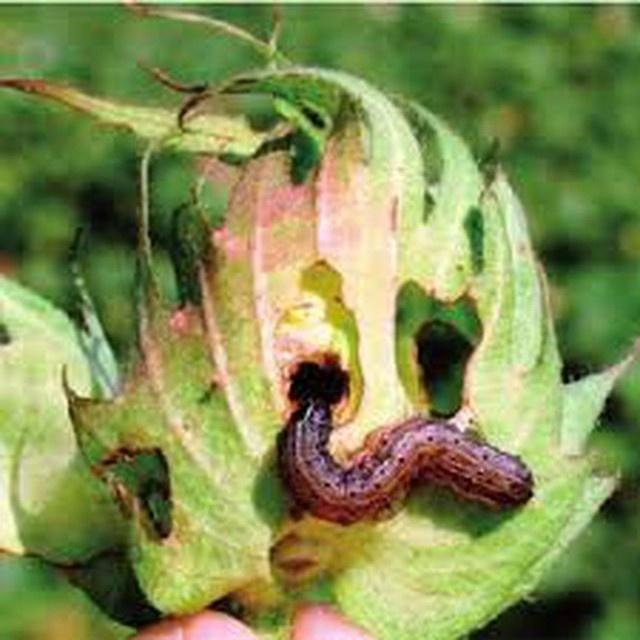gusano_cogollero: (285, 408, 537, 524)
